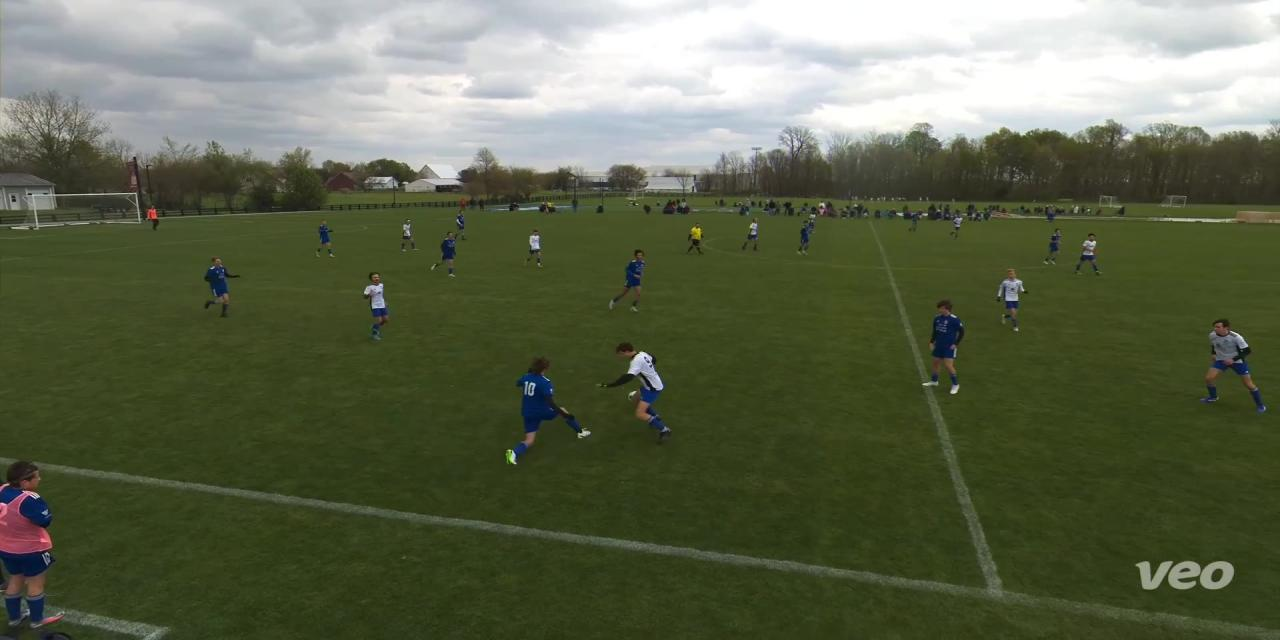goal: (4, 187, 162, 231)
sports ball: (622, 384, 650, 409)
